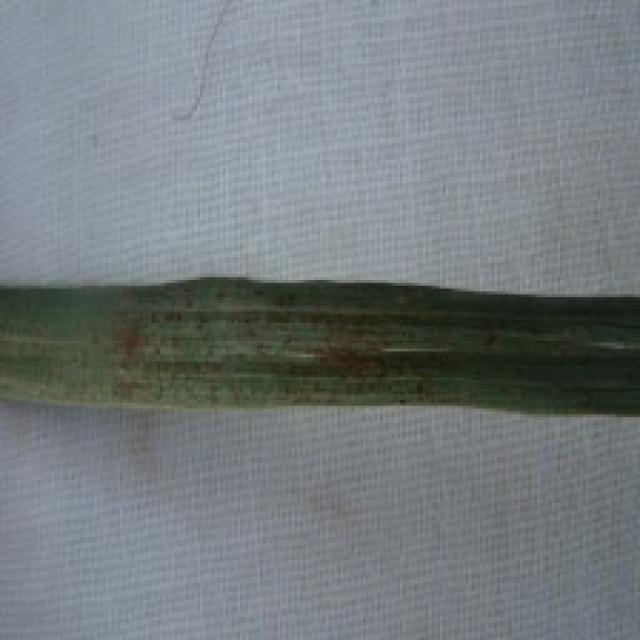Brown_Spot: (262, 302, 402, 348), (292, 343, 422, 391), (103, 314, 158, 378), (180, 280, 221, 331)
